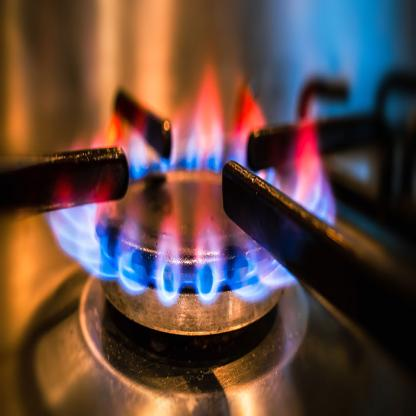fire: (45, 53, 337, 312)
